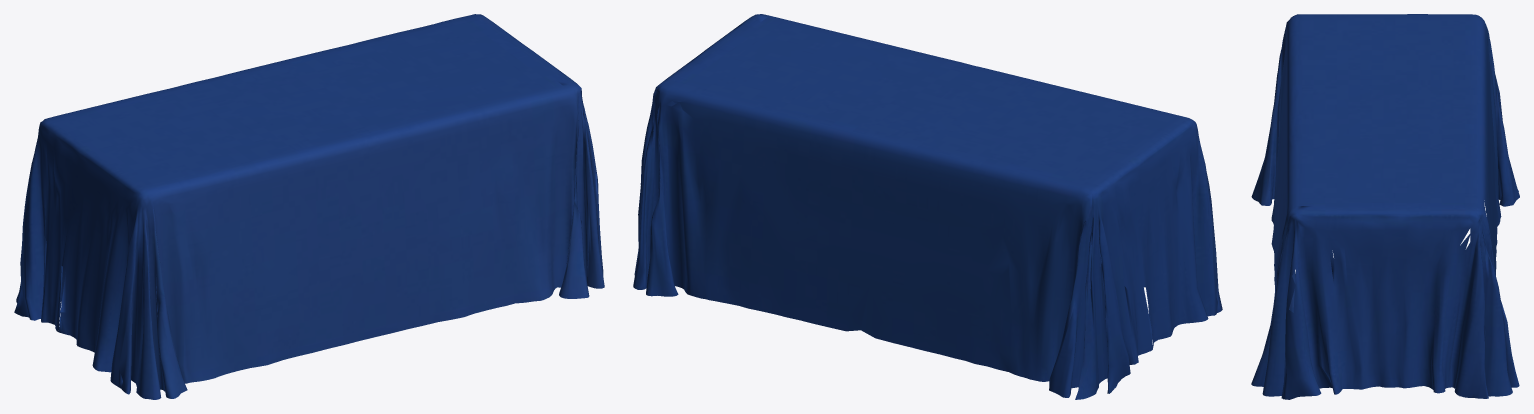
Rendered from skyways-con-merch-table.glb.
3 renders of one model, left to right at view 1: azimuth 30°, elevation 25°; view 2: azimuth 150°, elevation 25°; view 3: azimuth 270°, elevation 25°, orthographic. The views are drawn at different scales.
Visible parts, largest first — view 1: skyways-con-merch-table; view 2: skyways-con-merch-table; view 3: skyways-con-merch-table.
Part boxes in pixels (x1=…): skyways-con-merch-table: x1=14, y1=14, x2=604, y2=399; skyways-con-merch-table: x1=633, y1=14, x2=1222, y2=399; skyways-con-merch-table: x1=1251, y1=14, x2=1519, y2=399.
Bounding box in the file's own units: 2.03 × 0.7582 × 1.02.
1 material, 1 textured.
